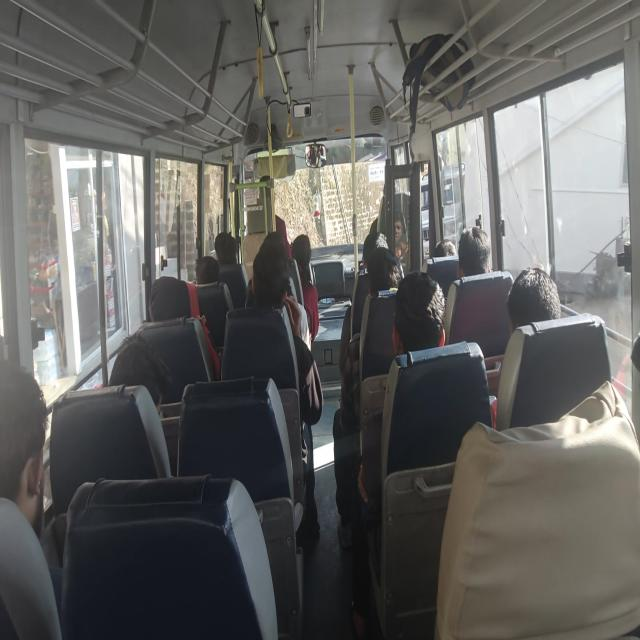person: (2, 361, 62, 542), (392, 273, 453, 363), (109, 329, 179, 406), (501, 260, 565, 334), (145, 266, 204, 338), (253, 248, 298, 310), (453, 221, 504, 270), (356, 220, 399, 274), (192, 246, 234, 288), (369, 245, 400, 299), (211, 228, 242, 269), (256, 170, 283, 209), (294, 225, 318, 268), (376, 174, 401, 209), (262, 229, 292, 255), (433, 236, 459, 264)
